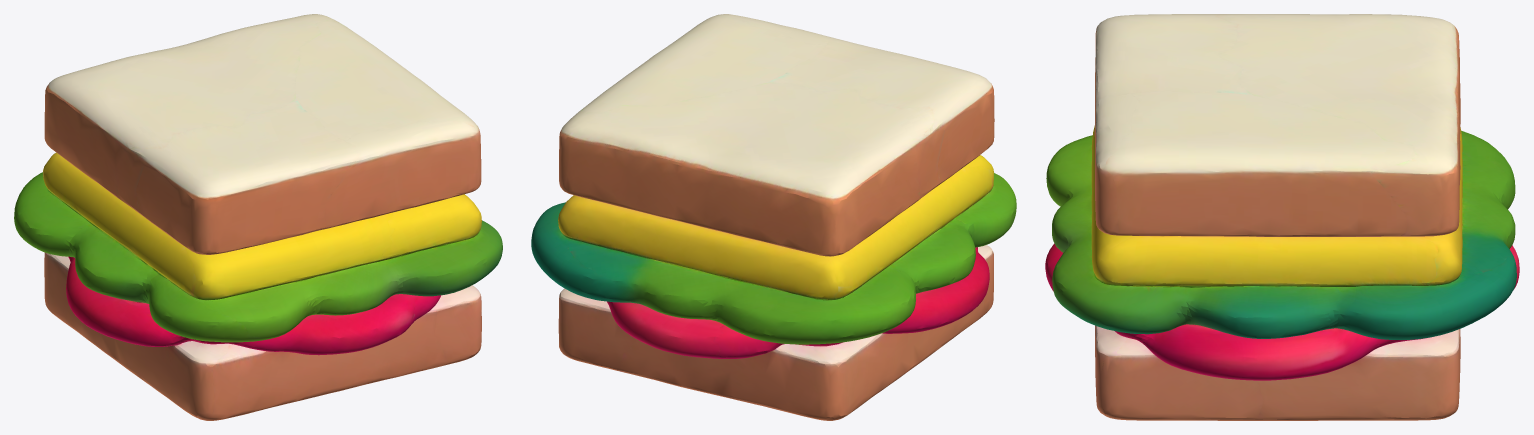
File: sandwich.glb
3 views of the same model, side by side, from view 1: azimuth 30°, elevation 25°; view 2: azimuth 150°, elevation 25°; view 3: azimuth 270°, elevation 25° (orthographic). The views are drawn at different scales.
Visible parts, largest first — view 1: model; view 2: model; view 3: model.
Part boxes in pixels (x1,y1,x2,y2): model: [14, 14, 502, 420]; model: [531, 14, 1016, 420]; model: [1045, 14, 1519, 420].
Size of the model in its own units: 1 by 0.6171 by 0.9807.
1 material, 1 textured.
